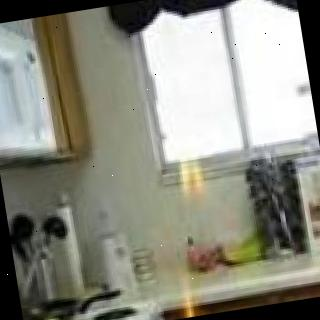fire: (141, 281, 287, 320)
